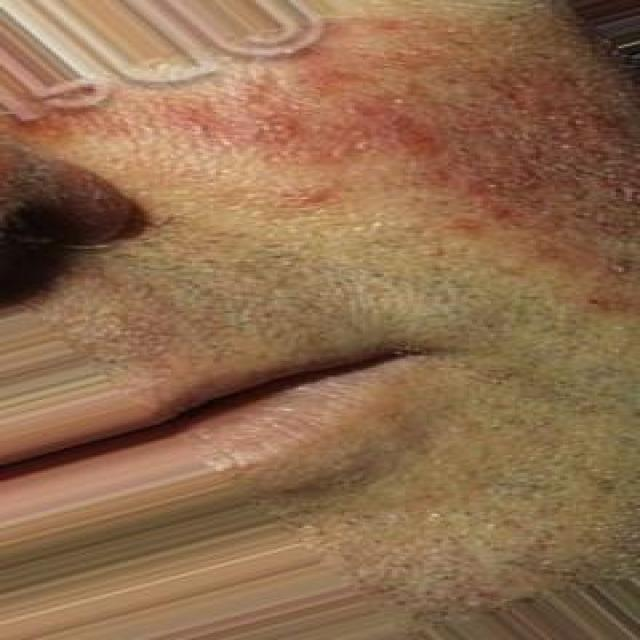Rosacea: (35, 18, 639, 301)
